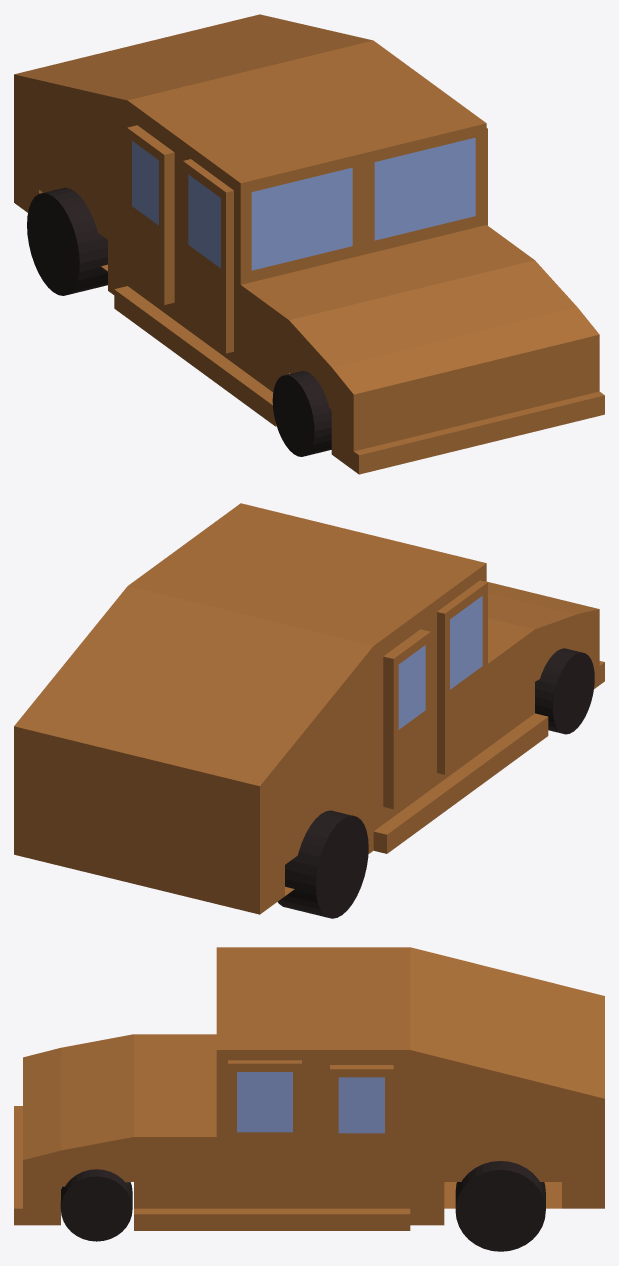
The model's file is humvee.glb.
3 views of the same model, one above another, from view 1: azimuth 30°, elevation 25°; view 2: azimuth 150°, elevation 25°; view 3: azimuth 270°, elevation 25° (orthographic). The views are drawn at different scales.
Visible parts, largest first — view 1: humvee; view 2: humvee; view 3: humvee.
Boxes of the visible parts, x1,y1,x2,y2 form: humvee: (14, 14, 604, 474); humvee: (14, 503, 604, 918); humvee: (14, 947, 604, 1251).
Bounding box in the file's own units: 2.95 × 2.2 × 6.11.
